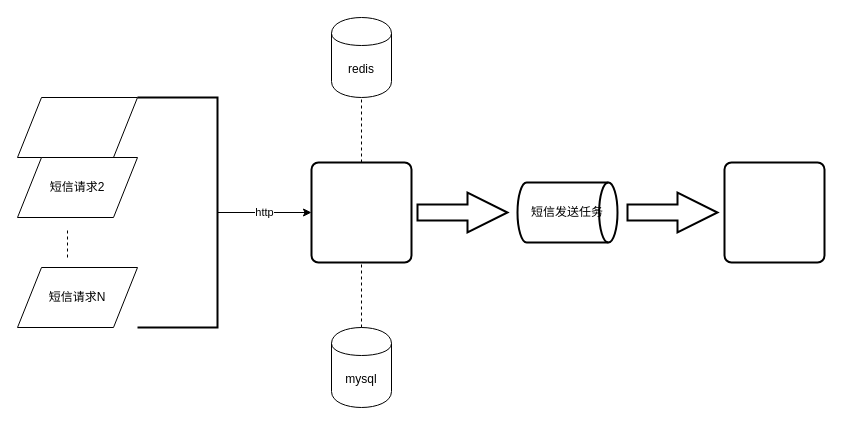
Some shapes in this 843 by 425 pixel diagram are drawn without their labels. The centre of each missing label's shape, as x and y in pixels:
"松鼠admin后台服务" goes at point (361, 212).
"短信流式处理服务" goes at point (774, 212).
"短信请求1" goes at point (77, 127).
